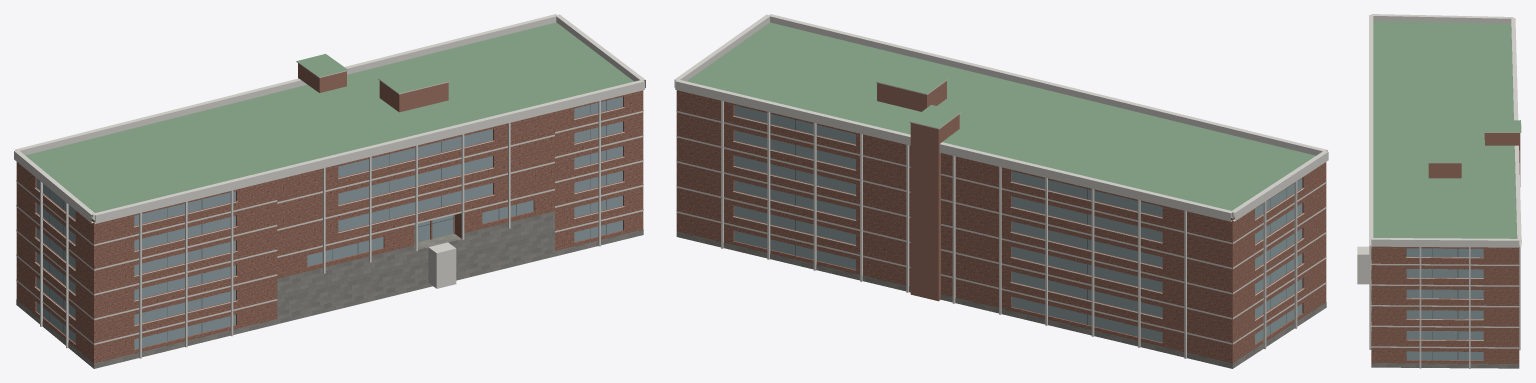
The picture shows the model from 3 angles, left to right: view 1: azimuth 30°, elevation 25°; view 2: azimuth 150°, elevation 25°; view 3: azimuth 270°, elevation 25°; orthographic projection. The views are drawn at different scales.
Parts seen in each view (by area): view 1: sci24__wall, sci24__roof, sci24__trim, sci24__glass, sci24__base, sci24__wall2, sci24__entranceStair, sci24__frame; view 2: sci24__wall, sci24__roof, sci24__trim, sci24__glass, sci24__wall2, sci24__base; view 3: sci24__roof, sci24__wall, sci24__trim, sci24__glass, sci24__wall2, sci24__base, sci24__entranceStair, sci24__frame.
Part boxes in pixels (x1,y1,x2,y2): sci24__wall: (16, 90, 643, 368); sci24__roof: (25, 22, 633, 324); sci24__trim: (14, 14, 645, 358); sci24__glass: (36, 96, 622, 349); sci24__base: (16, 211, 643, 368); sci24__wall2: (298, 63, 448, 112); sci24__entranceStair: (428, 242, 456, 288); sci24__frame: (49, 100, 606, 341); sci24__wall: (676, 90, 1326, 368); sci24__roof: (686, 22, 1315, 218); sci24__trim: (674, 14, 1328, 358); sci24__glass: (734, 105, 1302, 343); sci24__wall2: (877, 81, 959, 301); sci24__base: (676, 231, 1326, 368); sci24__roof: (1373, 21, 1521, 244); sci24__wall: (1371, 245, 1519, 363); sci24__trim: (1369, 14, 1521, 368); sci24__glass: (1406, 248, 1483, 360); sci24__wall2: (1428, 133, 1520, 186); sci24__base: (1371, 363, 1519, 368); sci24__entranceStair: (1357, 246, 1369, 284); sci24__frame: (1432, 248, 1458, 359).
Bounding box in the file's own units: 84.8 × 24.89 × 25.95.
9 materials, 2 textured.
